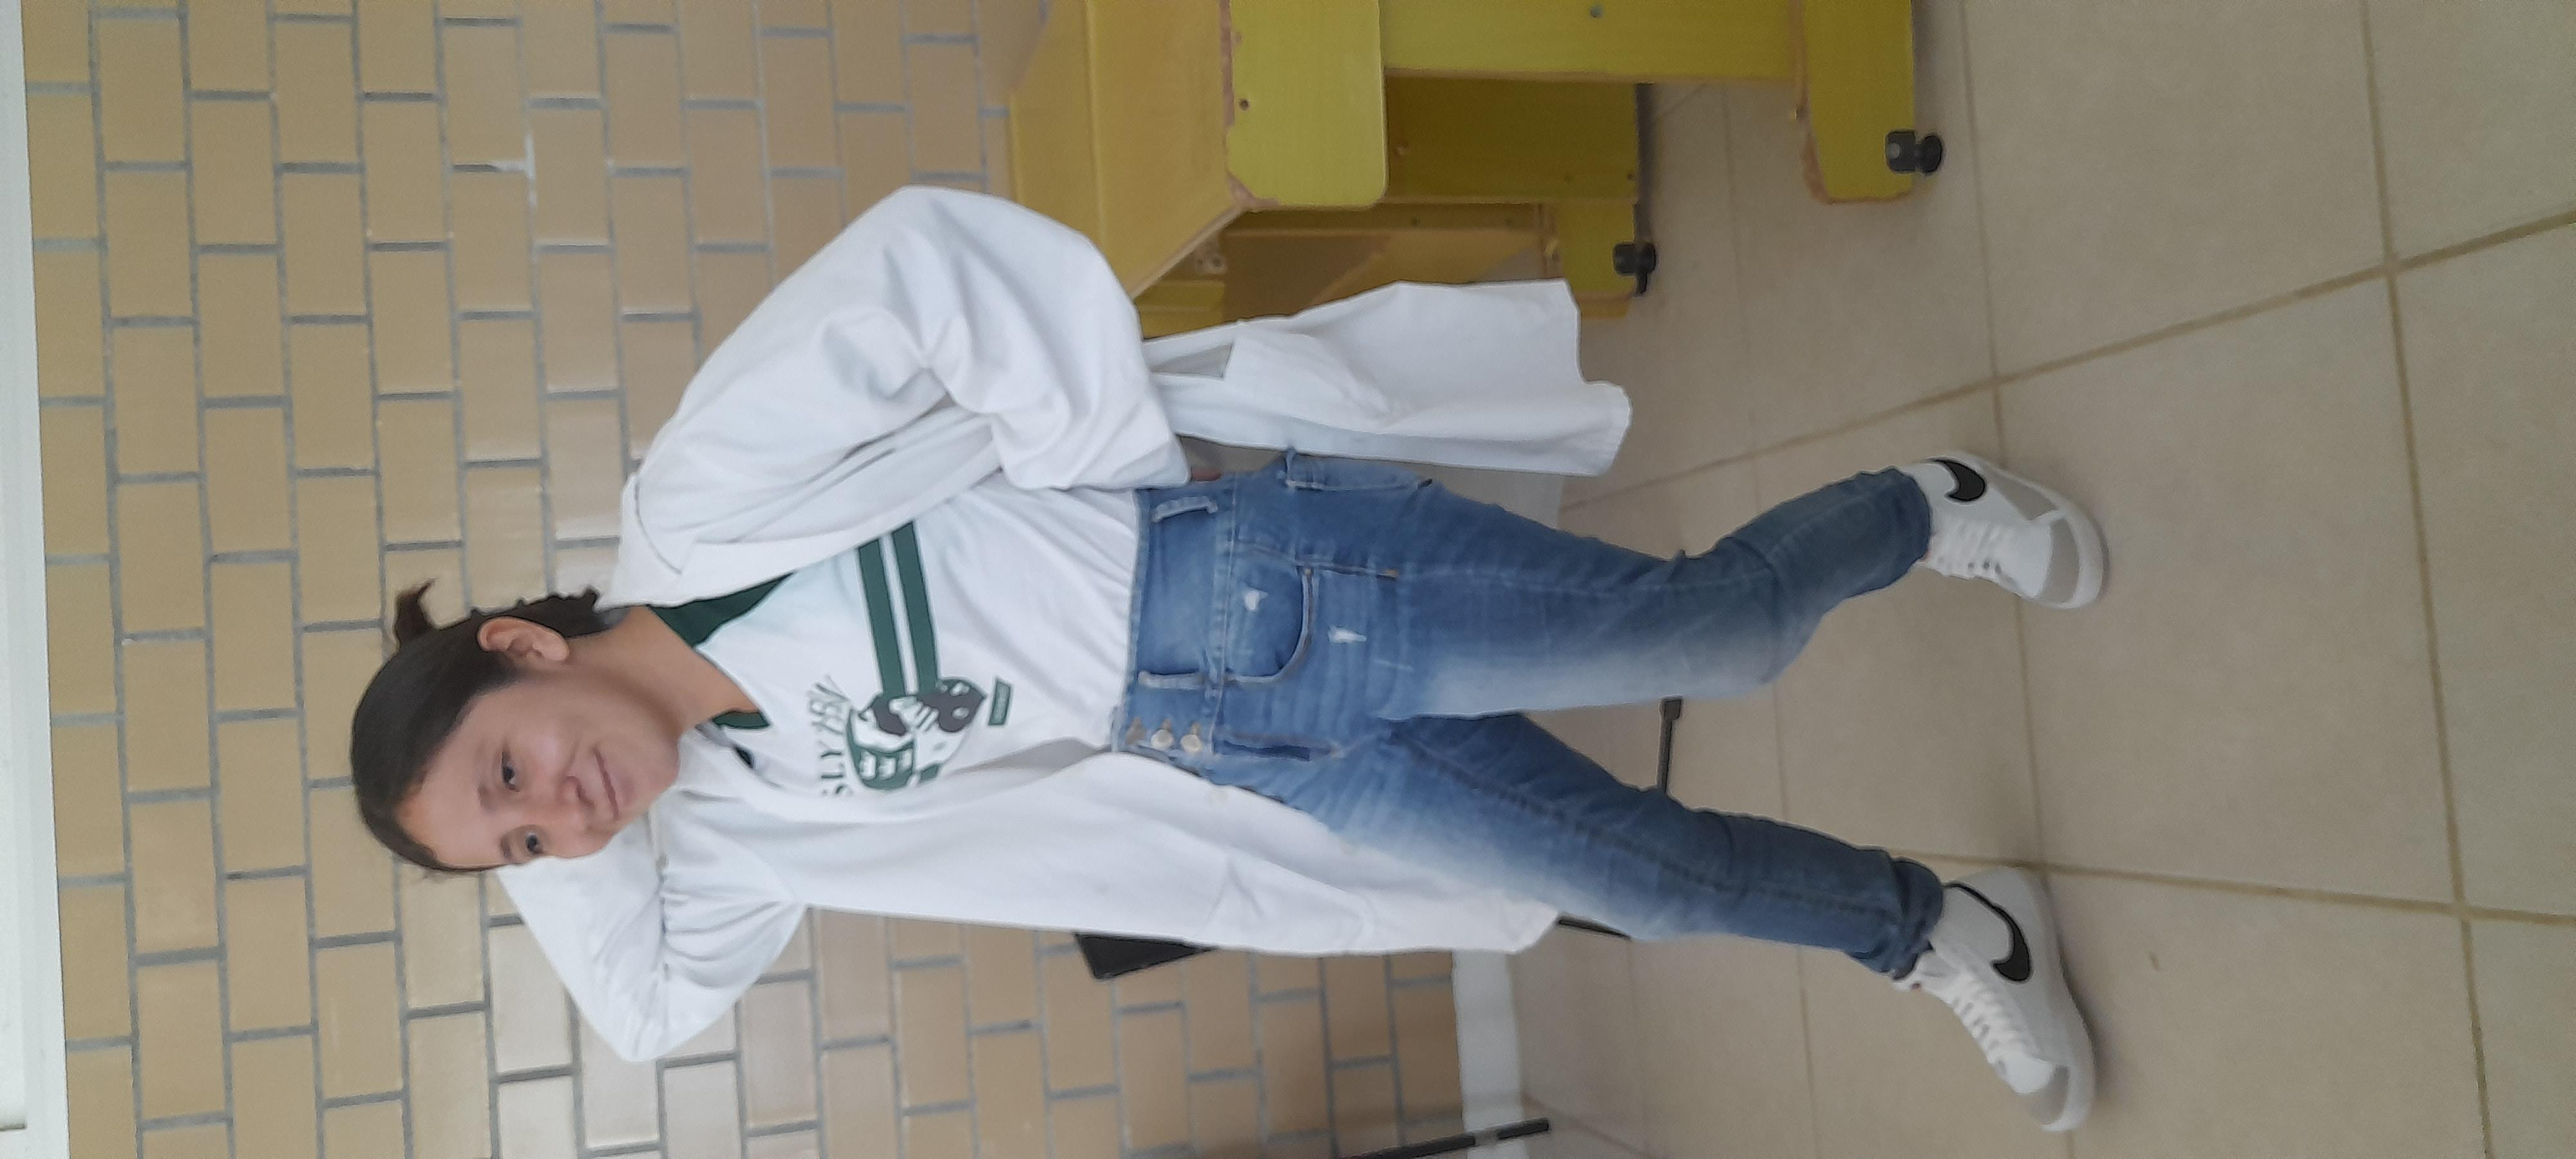Bata-Incorrecta: (0, 133, 2290, 1000)
